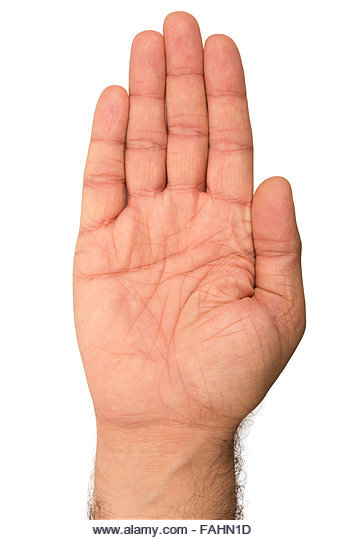non-diseased: (83, 20, 304, 435)
